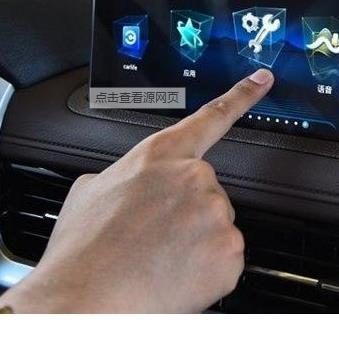up: (48, 67, 277, 307)
